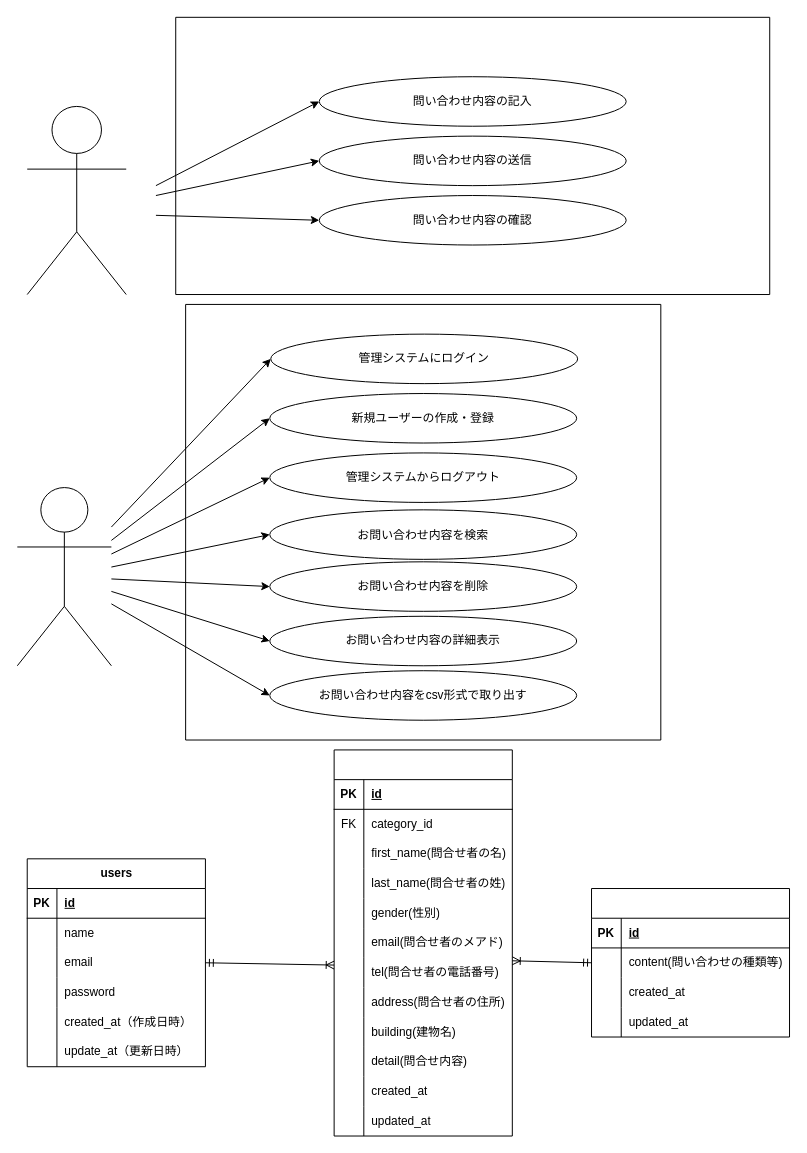
This 807x1153 diagram has some shape labels left out. The shapes that lost their labels are listed below. From the top down, each one's box as (x1, y1, x2, y2) in pixels, then its label:
(175, 16, 770, 295): 問い合わせ送信システム
(26, 105, 126, 295): 利用者
(185, 303, 661, 740): 問い合わせ管理システム
(16, 487, 111, 666): 管理者
(333, 749, 512, 1136): contacts
(591, 888, 790, 1037): categories
